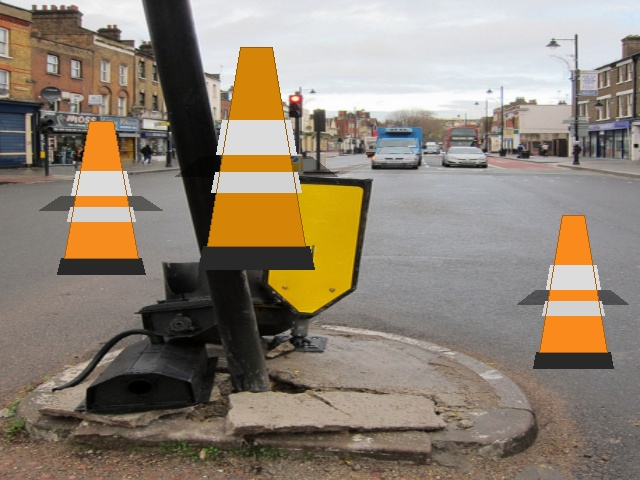traffic-cone: (198, 47, 314, 269), (57, 121, 145, 274), (533, 215, 613, 368)
